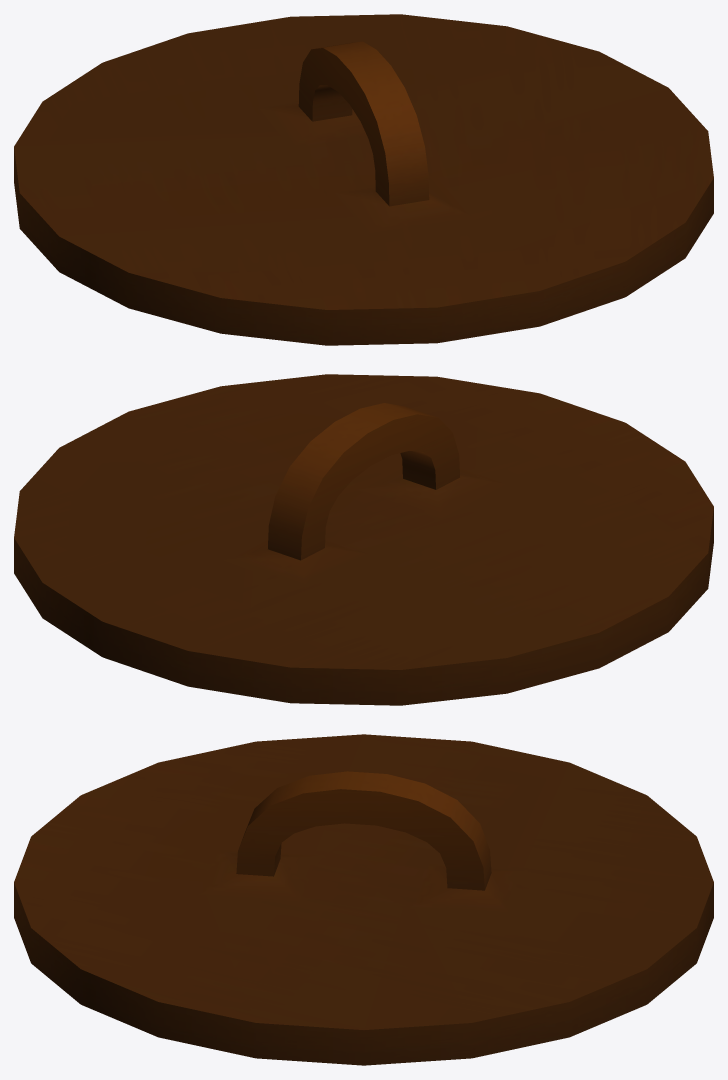
Rendered from Deckel_holz.fbx.
3 views of the same model, one above another, from view 1: azimuth 30°, elevation 25°; view 2: azimuth 150°, elevation 25°; view 3: azimuth 270°, elevation 25° (orthographic).
Parts seen in each view (by area): view 1: Deckel; view 2: Deckel; view 3: Deckel.
Boxes of the visible parts, x1,y1,x2,y2 form: Deckel: (14, 14, 713, 345); Deckel: (14, 374, 713, 705); Deckel: (14, 734, 713, 1065).
Size of the model in its own units: 7.26 by 1.56 by 7.26.
